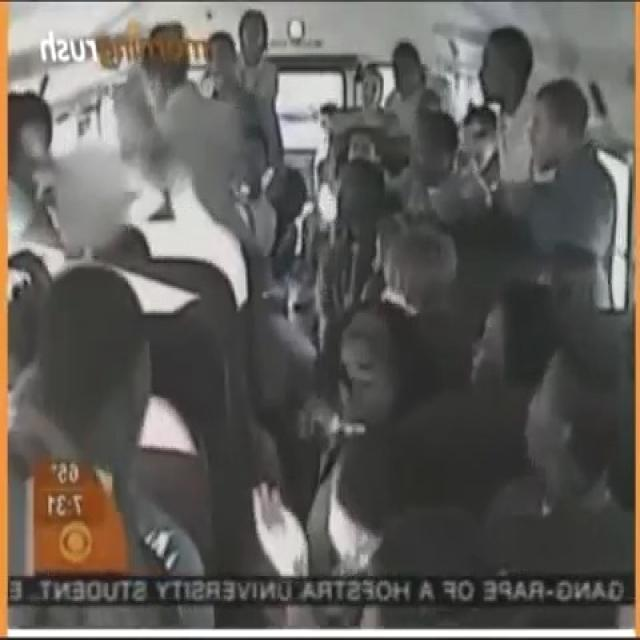fight: (101, 20, 244, 256)
